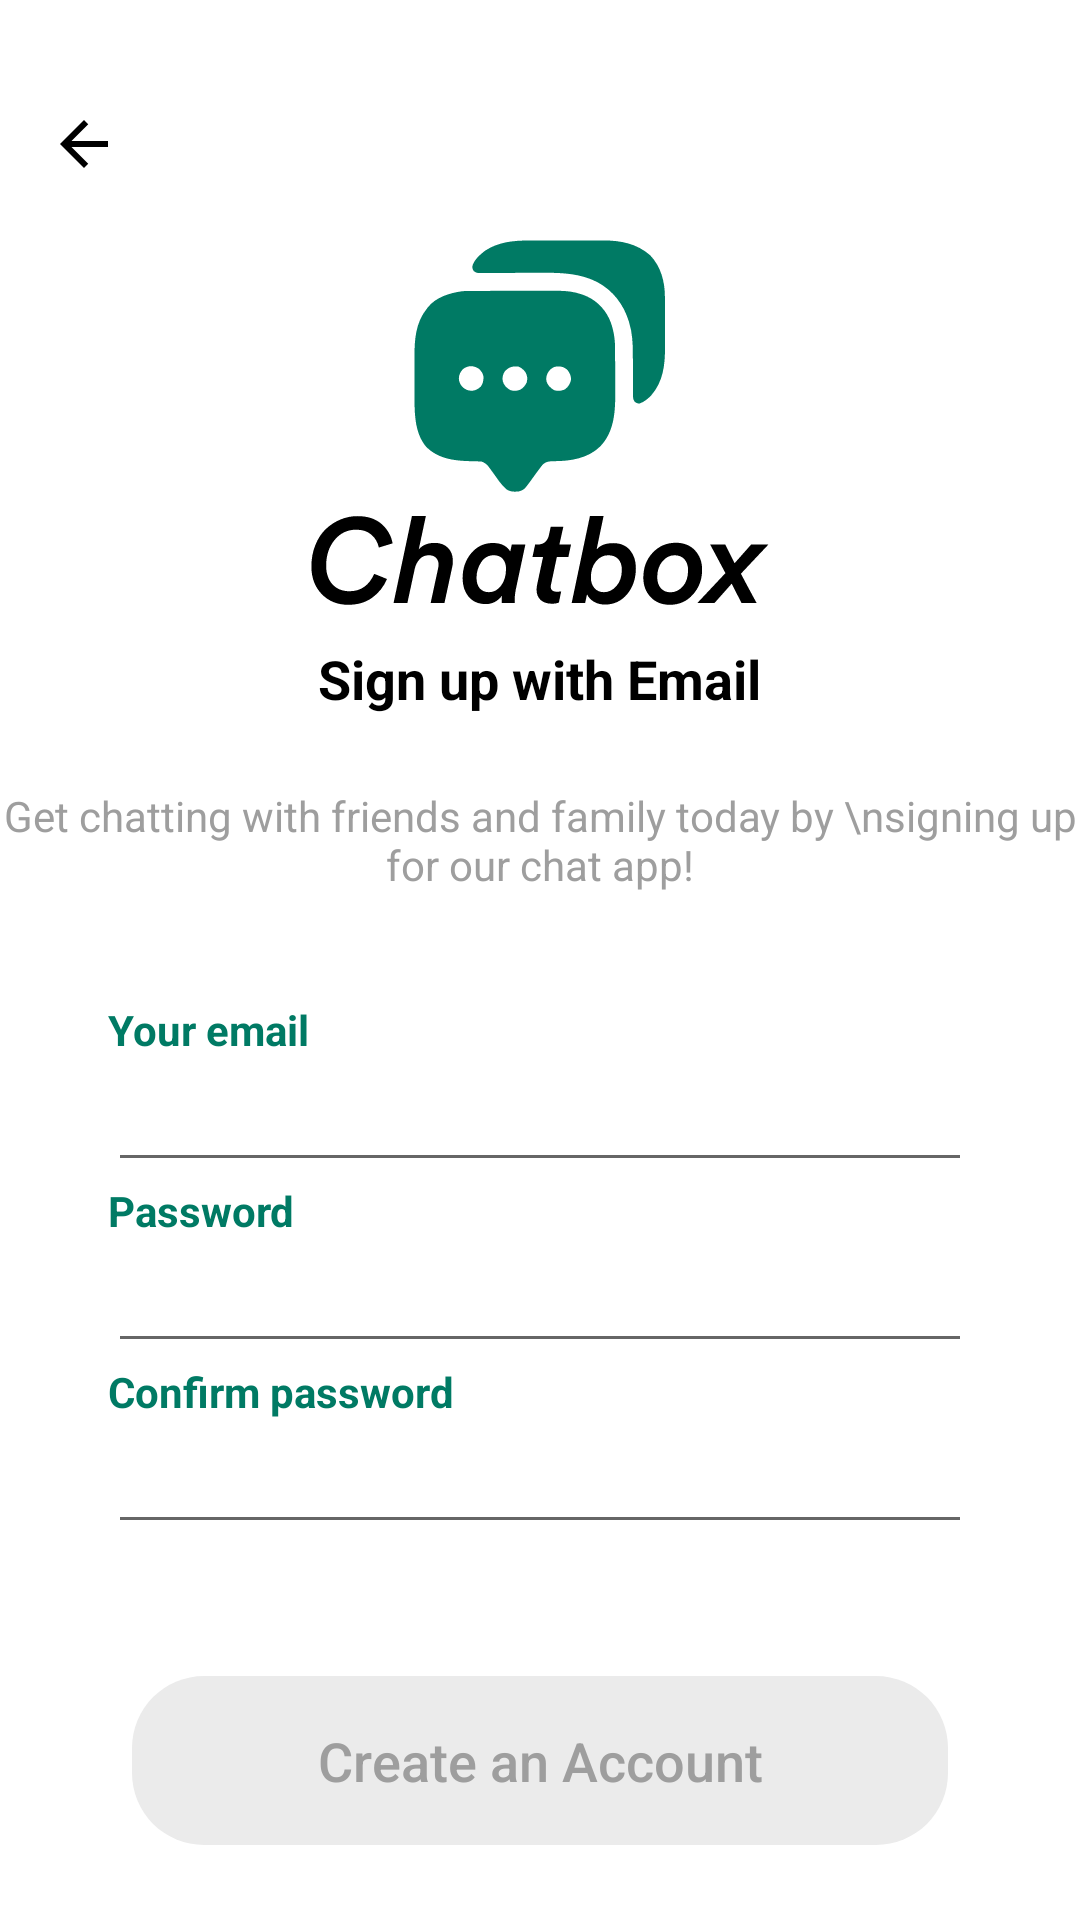

Where icons sit on this 1080*1920 app screen, as detection(x1, y1, x2, y2):
arrow back: detection(60, 120, 108, 168)
message: detection(414, 240, 665, 492)
